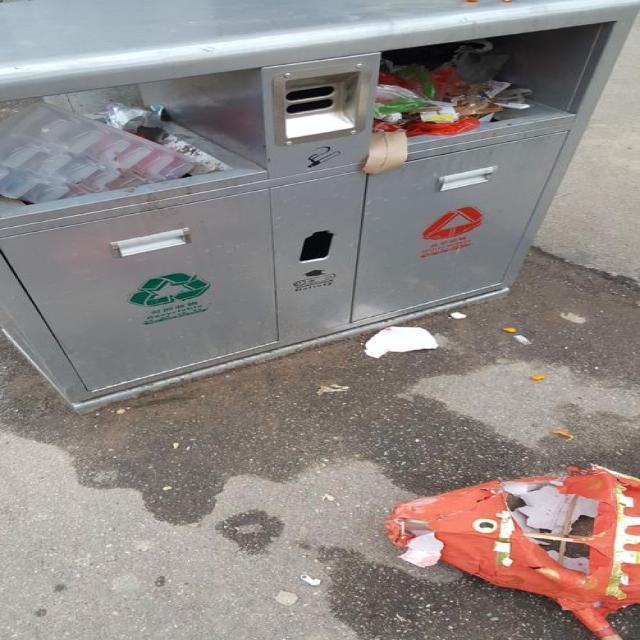garbage: (357, 462, 639, 639)
overflow: (0, 1, 637, 413)
